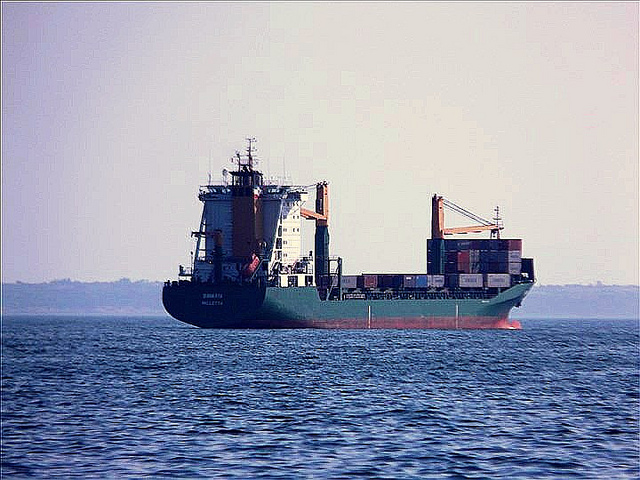container_ship: (166, 140, 534, 333)
